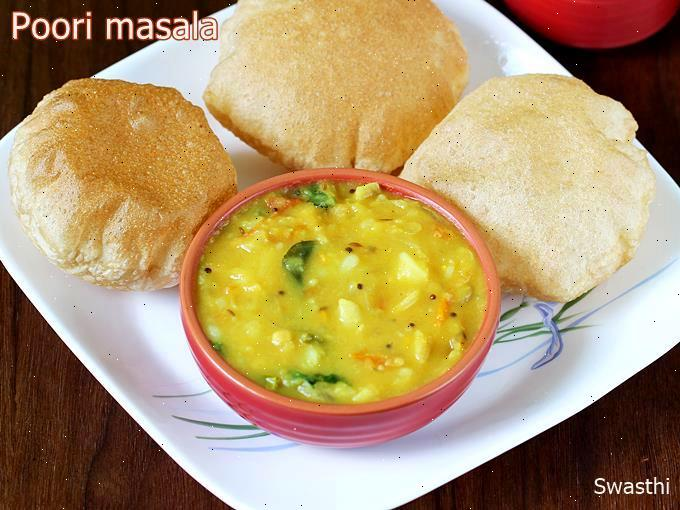puri: (230, 4, 668, 180)
